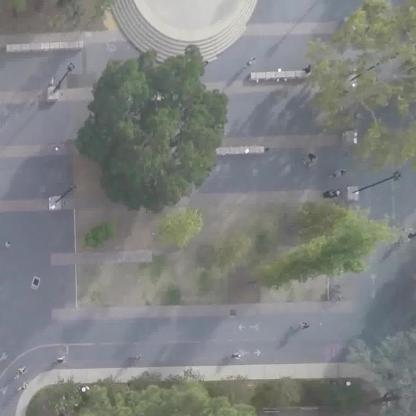Bicyclist: (304, 153, 323, 172), (126, 351, 150, 365), (18, 380, 35, 398), (225, 348, 244, 364), (11, 364, 28, 378), (53, 352, 66, 367), (289, 321, 308, 331), (399, 226, 416, 236)
Pedestrian: (38, 75, 65, 93), (298, 58, 316, 84), (238, 58, 260, 70), (332, 165, 345, 185), (263, 141, 275, 155)
